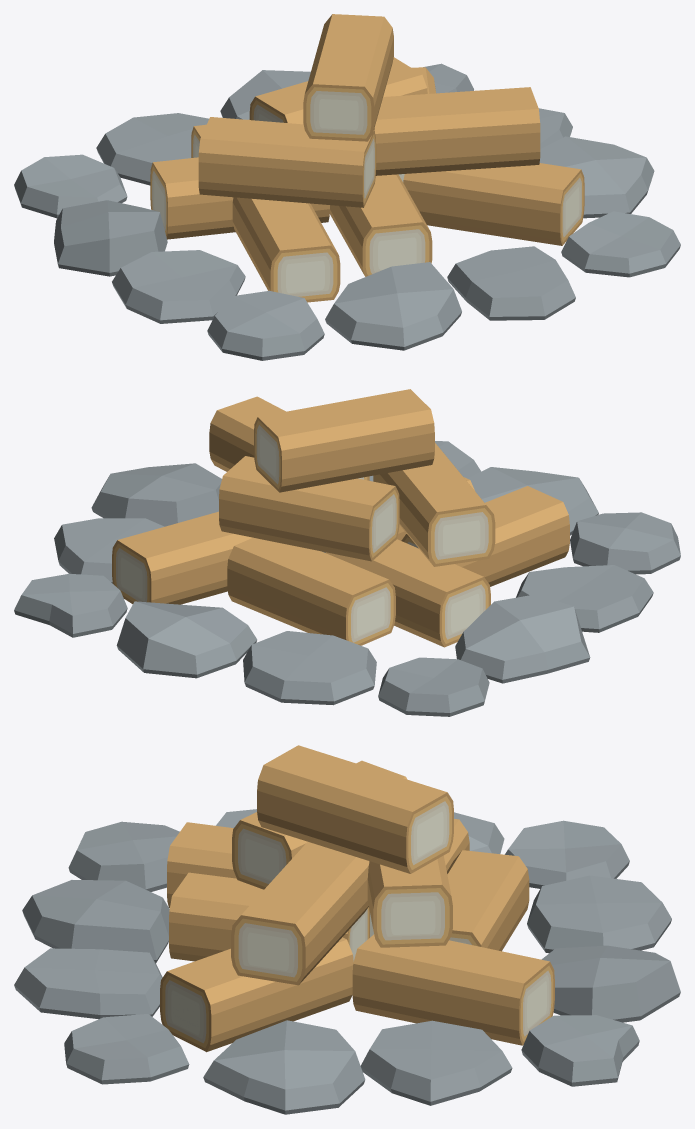
Rendered from palm_fireplace.glb.
3 renders of one model, top to bottom at view 1: azimuth 30°, elevation 25°; view 2: azimuth 150°, elevation 25°; view 3: azimuth 270°, elevation 25°, orthographic. The views are drawn at different scales.
Parts seen in each view (by area): view 1: PalmCampfire-col, Wood3-col, Wood2-col, Wood6-col, Wood1-col, Wood8-col, Wood7-col, Wood9-col, Wood4-col; view 2: PalmCampfire-col, Wood1-col, Wood10-col, Wood4-col, Wood5-col, Wood3-col, Wood9-col, Wood8-col, Wood2-col; view 3: PalmCampfire-col, Wood1-col, Wood5-col, Wood2-col, Wood6-col, Wood10-col, Wood4-col, Wood7-col, Wood3-col, Wood8-col, Wood9-col.
Part boxes in pixels (bbox=[...]): PalmCampfire-col: bbox=[14, 63, 680, 360]; Wood3-col: bbox=[198, 117, 376, 207]; Wood2-col: bbox=[374, 87, 540, 175]; Wood6-col: bbox=[403, 163, 584, 245]; Wood1-col: bbox=[303, 14, 393, 141]; Wood8-col: bbox=[232, 197, 340, 302]; Wood7-col: bbox=[329, 174, 432, 276]; Wood9-col: bbox=[150, 157, 329, 239]; Wood4-col: bbox=[249, 57, 427, 124]; PalmCampfire-col: bbox=[14, 441, 680, 716]; Wood1-col: bbox=[254, 389, 434, 492]; Wood10-col: bbox=[227, 537, 395, 645]; Wood4-col: bbox=[219, 456, 399, 561]; Wood5-col: bbox=[112, 511, 252, 604]; Wood3-col: bbox=[373, 443, 495, 566]; Wood9-col: bbox=[325, 539, 490, 647]; Wood8-col: bbox=[401, 486, 569, 586]; Wood2-col: bbox=[209, 396, 369, 480]; PalmCampfire-col: bbox=[14, 809, 680, 1114]; Wood1-col: bbox=[257, 745, 453, 873]; Wood5-col: bbox=[352, 934, 554, 1045]; Wood2-col: bbox=[231, 842, 369, 985]; Wood6-col: bbox=[160, 937, 353, 1052]; Wood10-col: bbox=[447, 850, 529, 951]; Wood4-col: bbox=[367, 855, 452, 947]; Wood7-col: bbox=[169, 872, 369, 961]; Wood3-col: bbox=[232, 760, 407, 889]; Wood8-col: bbox=[167, 822, 236, 907]; Wood9-col: bbox=[370, 819, 469, 937].
Size of the model in its own units: 1.37 by 0.4058 by 1.31.
1 material, 1 textured.
